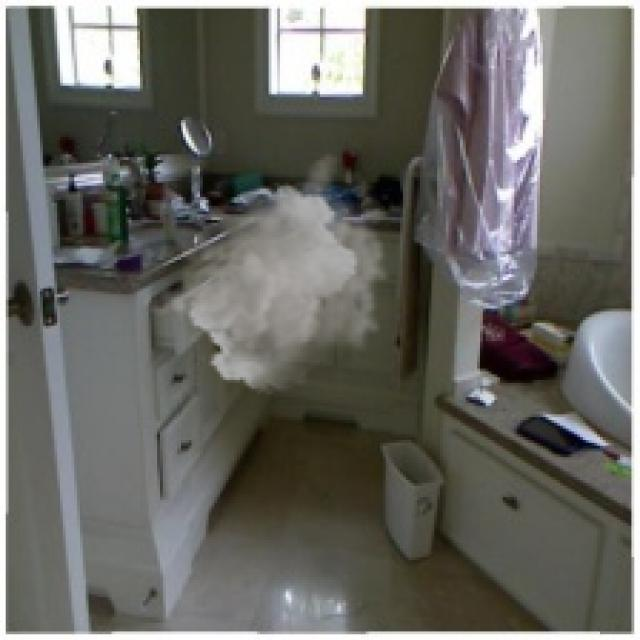smoke: (140, 152, 391, 394)
